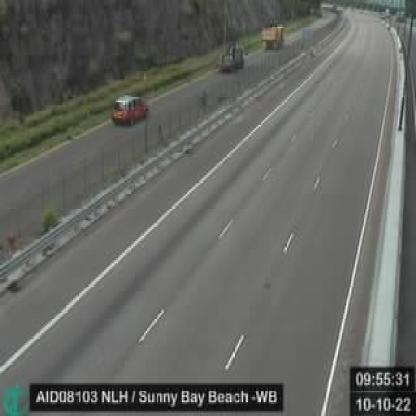Car: (112, 92, 148, 126)
Truck: (218, 40, 245, 72), (262, 22, 284, 51)
